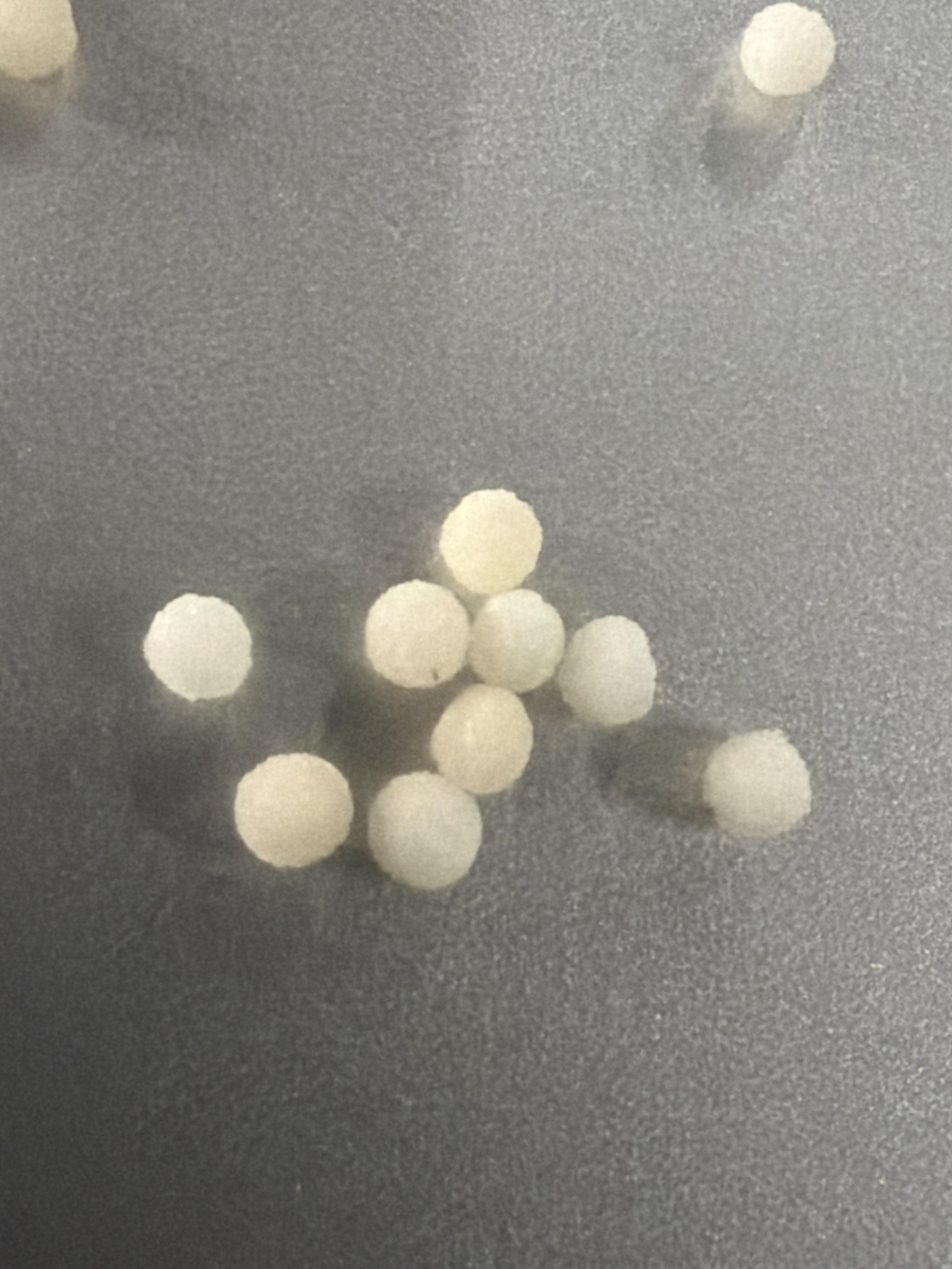pill: (234, 753, 353, 867), (368, 772, 481, 889), (143, 594, 252, 701), (703, 730, 811, 837), (365, 580, 470, 688), (430, 685, 533, 794), (557, 616, 656, 726), (439, 489, 542, 594), (469, 589, 565, 693), (740, 2, 835, 96), (0, 0, 77, 80)
